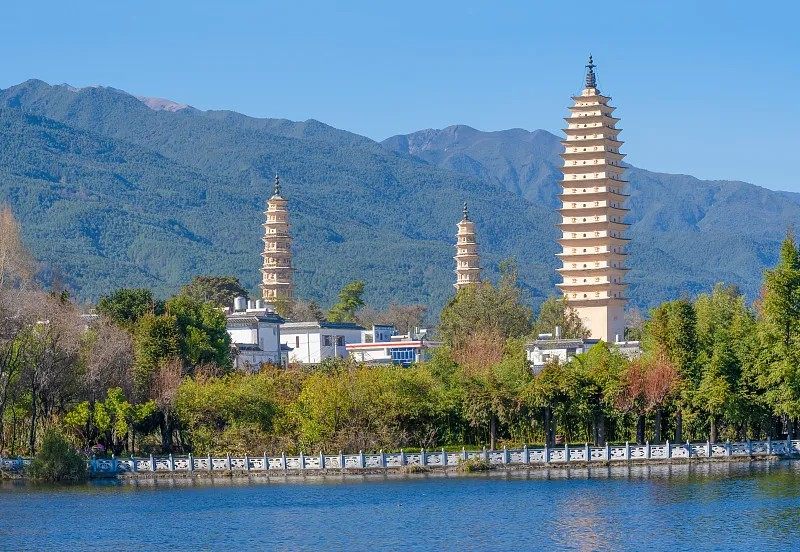ThreePagoda: (556, 51, 632, 342)
